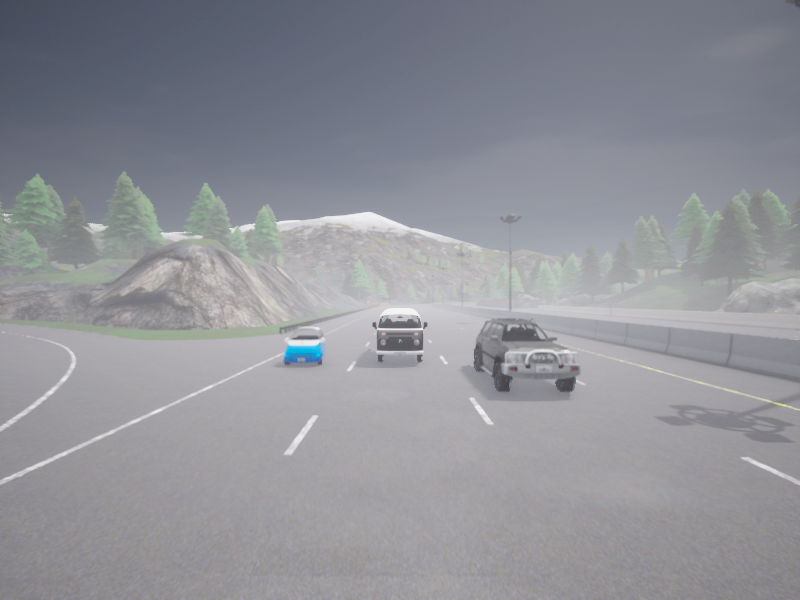vehicle: (473, 318, 580, 391), (372, 308, 427, 362), (284, 327, 325, 365), (442, 300, 448, 304)
